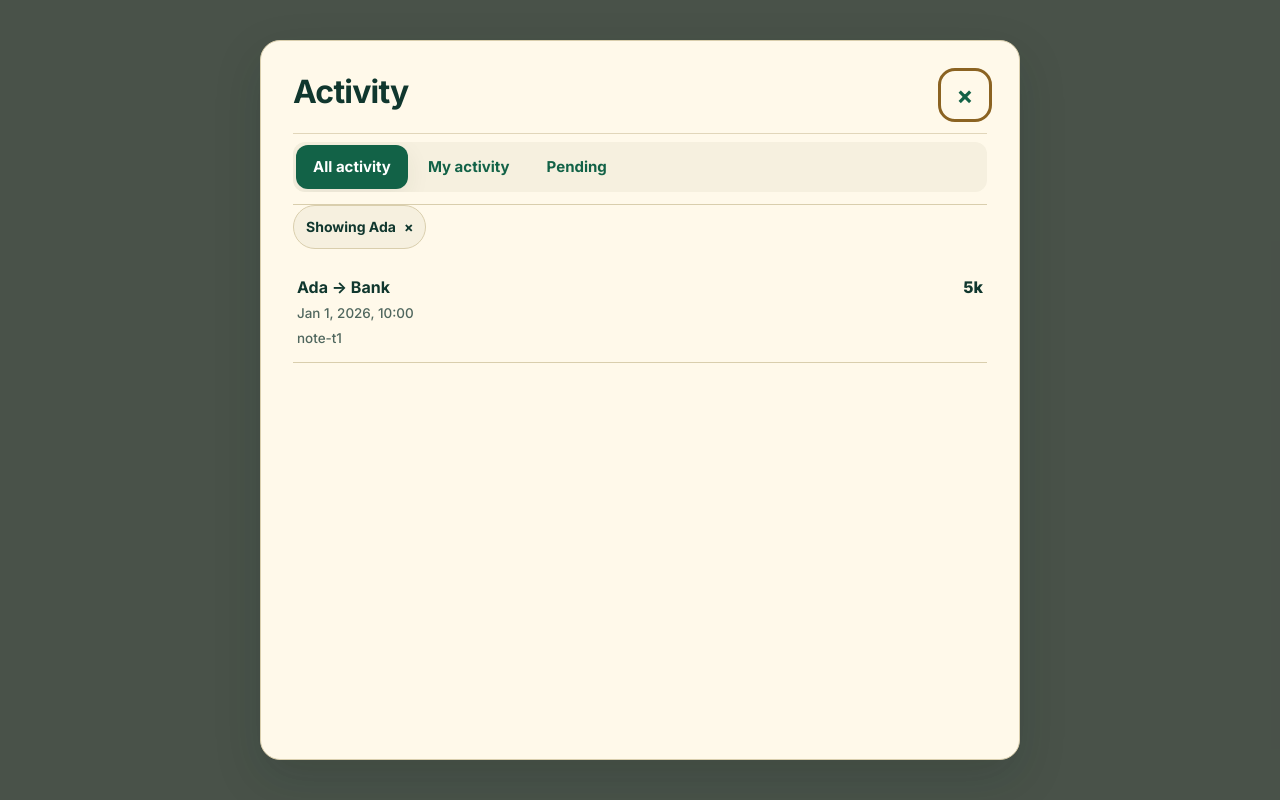
activity player filter › narrows the ledger to one wallet and clears on request
Expected: the text "note-t1" is shown, x1=297 y1=330 x2=342 y2=346
Expected: the text "note-t2" is not shown
Click the button with aria-label "Show everyone instead of Ada" at (360, 227), box x1=293 y1=205 x2=426 y2=249
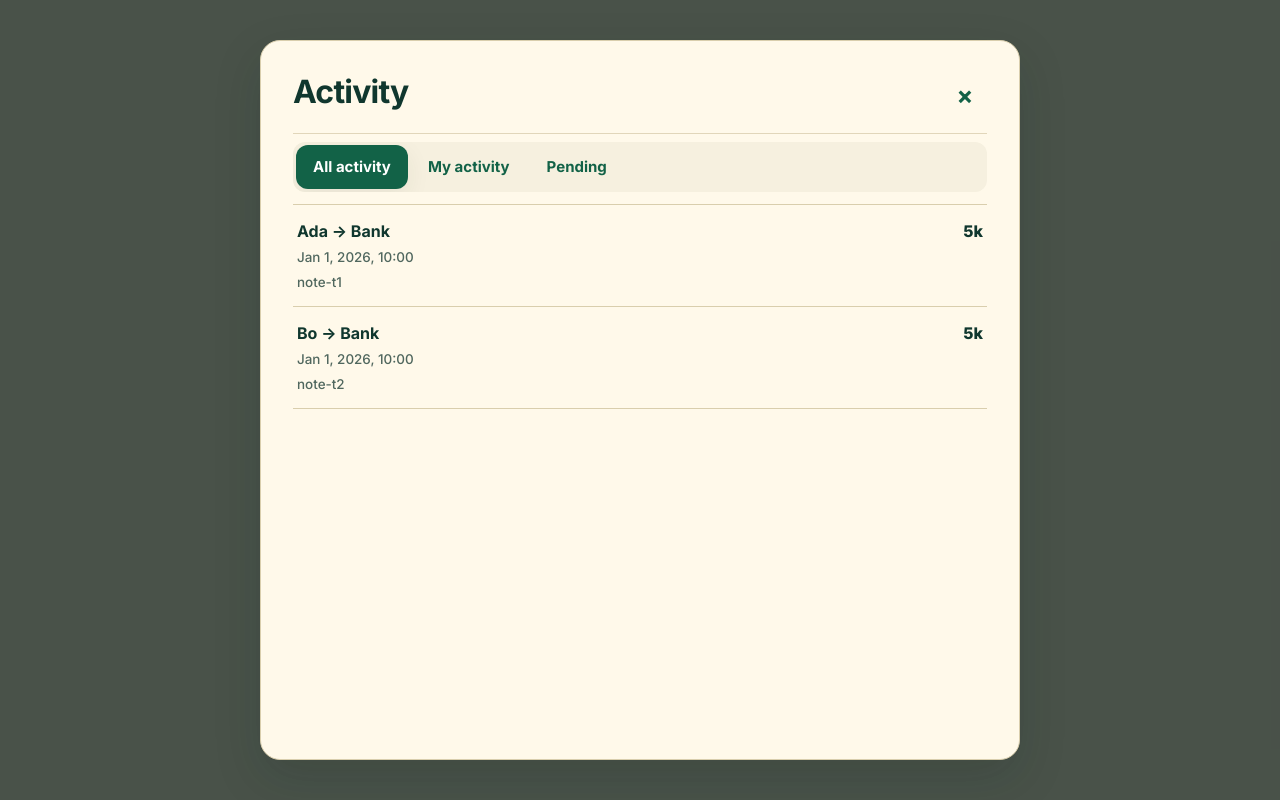
Expected: the text "note-t2" is shown, x1=297 y1=376 x2=345 y2=392
